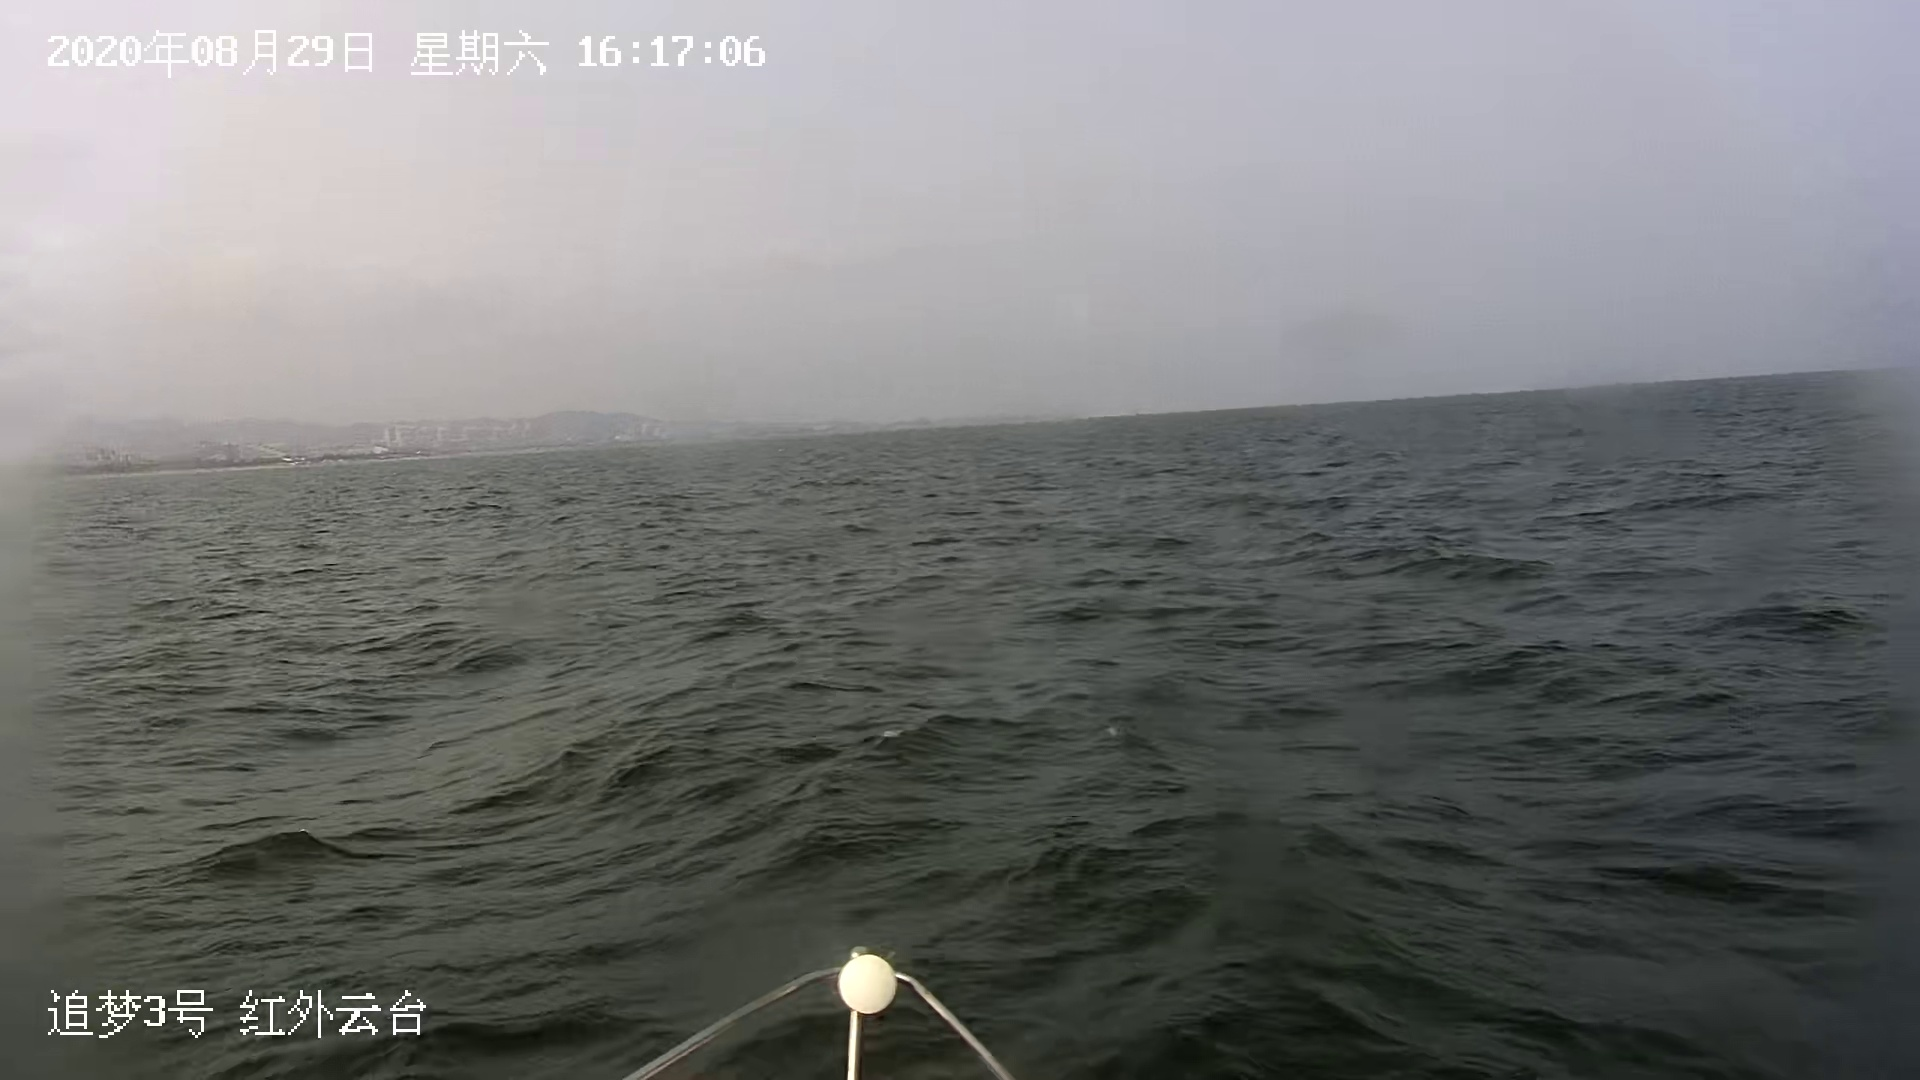coast: (9, 407, 1015, 479)
